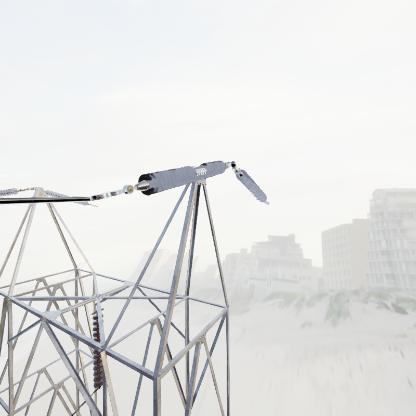insulator: (137, 158, 229, 194), (234, 169, 268, 206)
